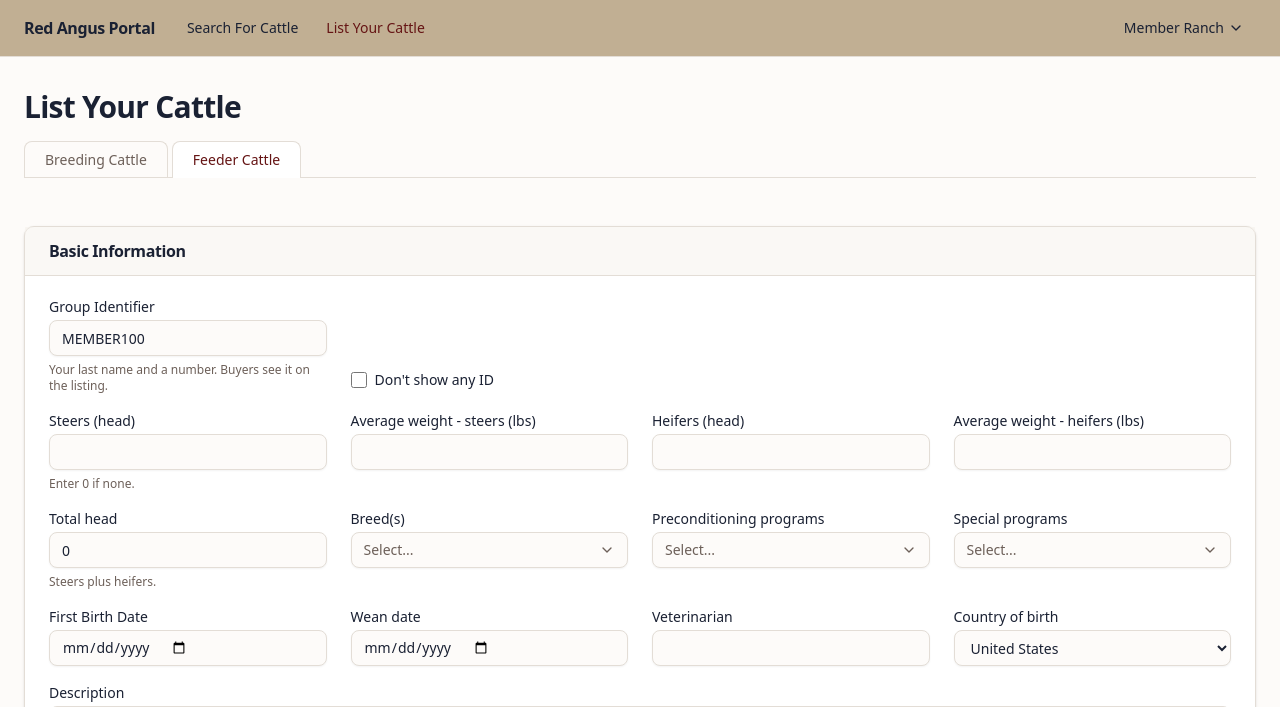
Test: Listing Notes on the form › Write it for me fills the text, ticks the box and turns into Rewrite
This screenshot has width=1280, height=707.
Type "40" into the field labelled "Steers (head)". click: [188, 452]
box: [49,434,326,470]
(page scrolled)
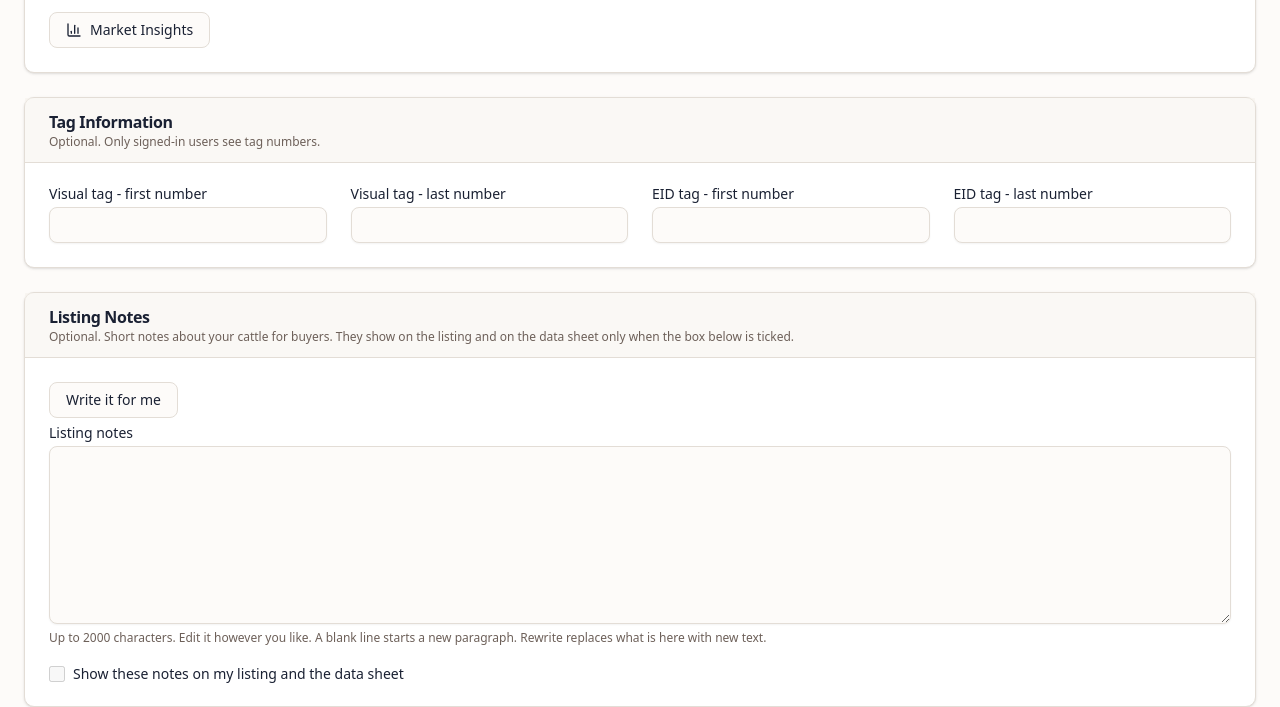
Click the button "Write it for me". click: [113, 400]
box: [49,382,178,418]
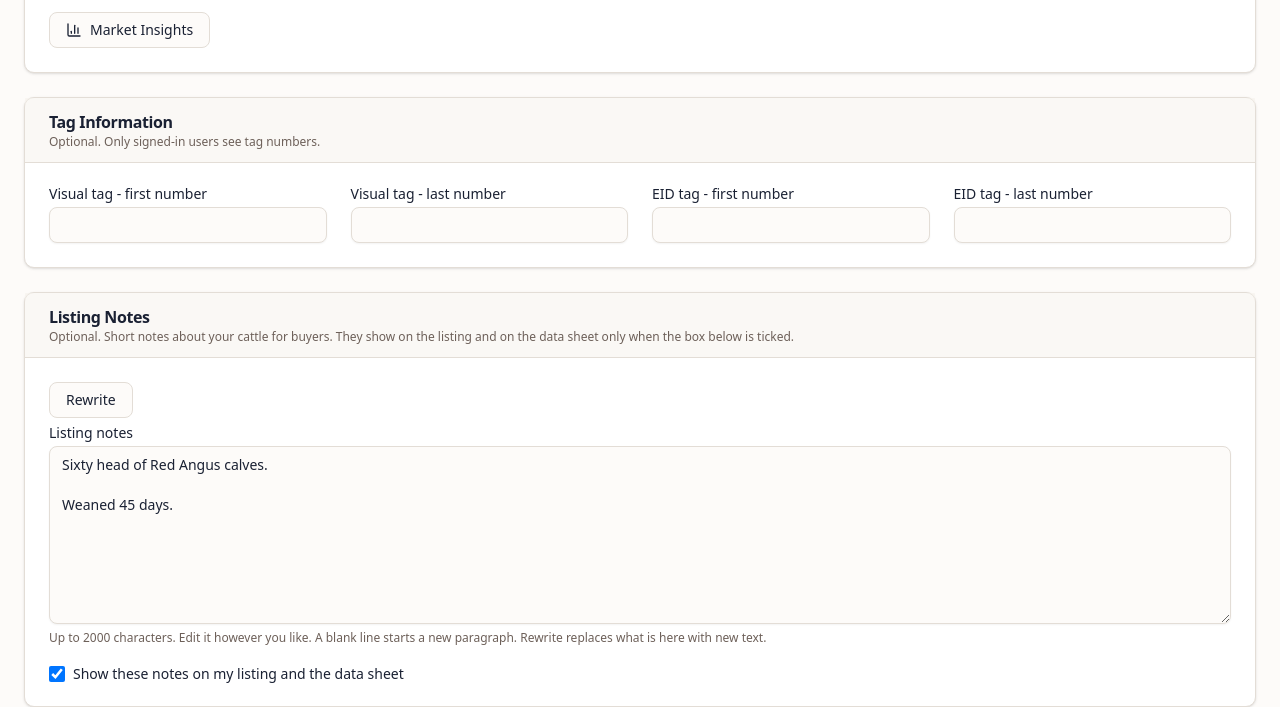
Check: the checkbox labelled "Show these notes on my listing and the data sheet" is checked, box [49,666,65,682]
Check: the button "Rewrite" is shown, box [49,382,133,418]
